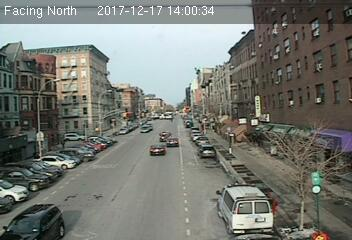car: (197, 144, 216, 158), (148, 142, 166, 156), (165, 137, 181, 148)
police: (215, 181, 277, 236)
